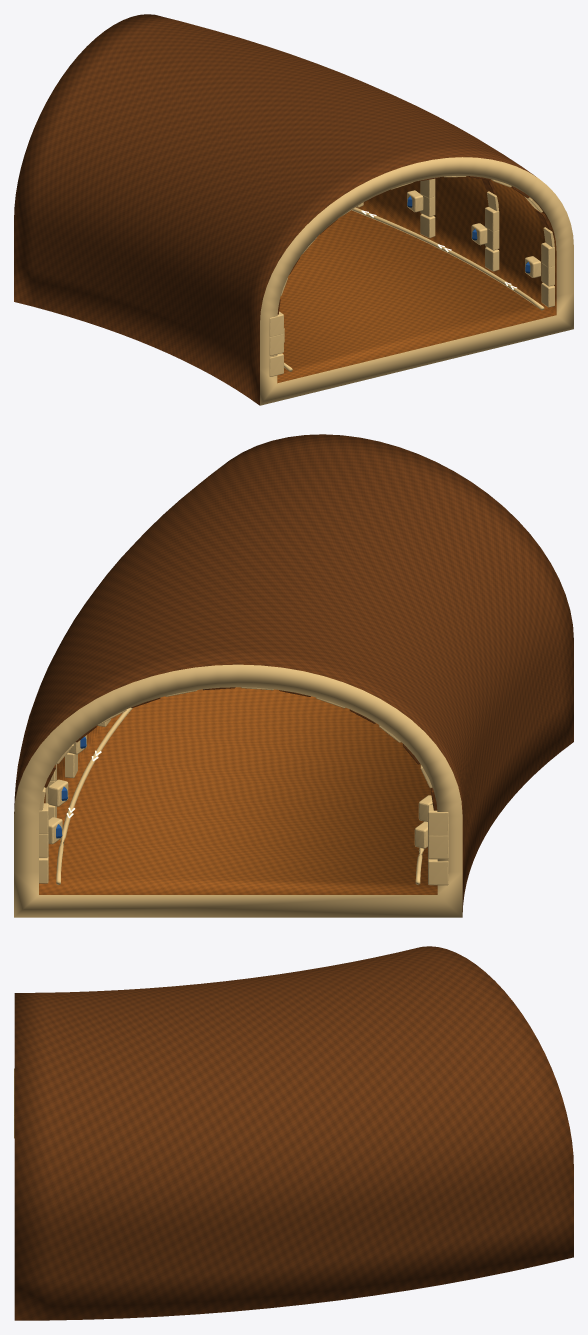
The model's file is curve_left_30.glb.
3 views of the same model, one above another, from view 1: azimuth 30°, elevation 25°; view 2: azimuth 150°, elevation 25°; view 3: azimuth 270°, elevation 25° (orthographic). The views are drawn at different scales.
Visible parts, largest first — view 1: TunnelGeometry; view 2: TunnelGeometry; view 3: TunnelGeometry.
Boxes of the visible parts, bbox=[...] form: TunnelGeometry: bbox=[14, 14, 573, 405]; TunnelGeometry: bbox=[14, 434, 573, 917]; TunnelGeometry: bbox=[14, 946, 573, 1320].
Size of the model in its own units: 19.1 by 9.52 by 21.85.
Materials: 5 (2 with a texture image).
